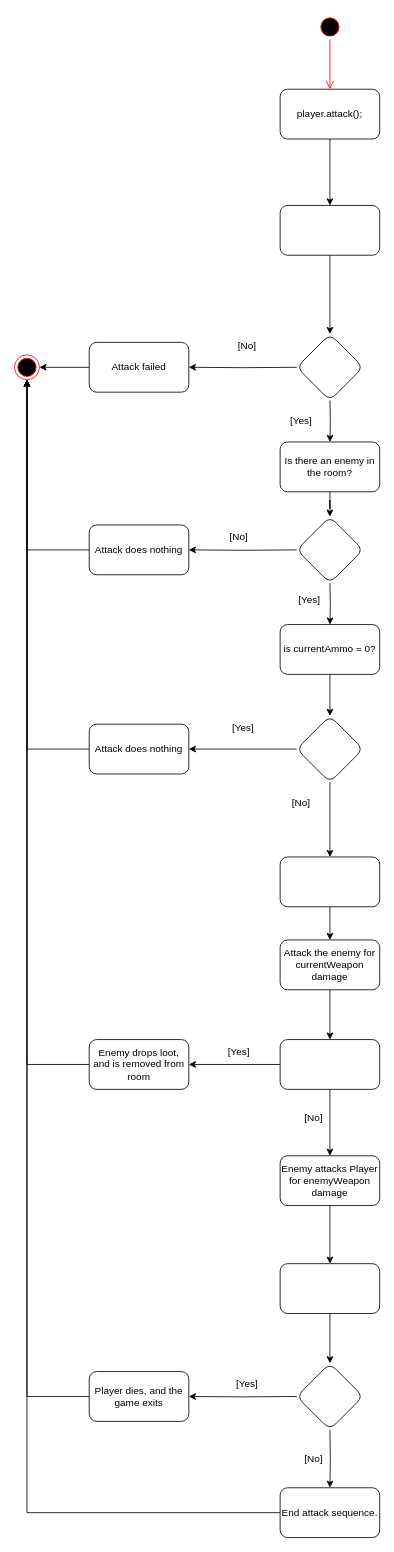
The diagram is 394 pixels wide and 1552 high, and some of its shapes have lost their labels. The shapes that lost their labels are listed below. From the top down, each one's centre as x and y in pixels, then its label:
At point (329, 230): "Is weapon equipped?".
At point (329, 881): "currentAmmo -= 1".
At point (329, 1064): "Is the enemy dead?".
At point (329, 1288): "Is the player dead?".
